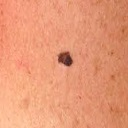Melanoma: (57, 51, 75, 68)
